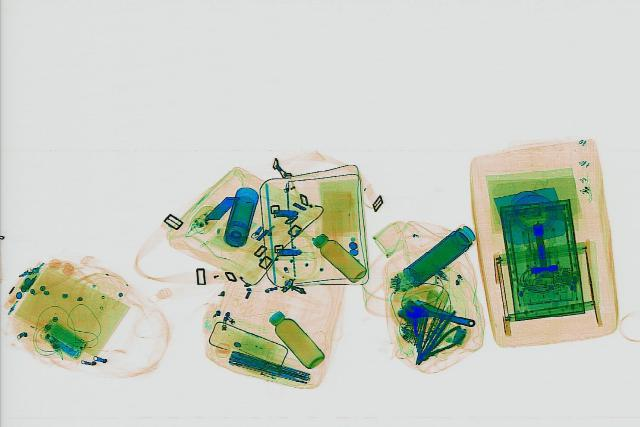Pliers: (411, 324, 471, 361)
Wrench: (402, 303, 476, 328)
